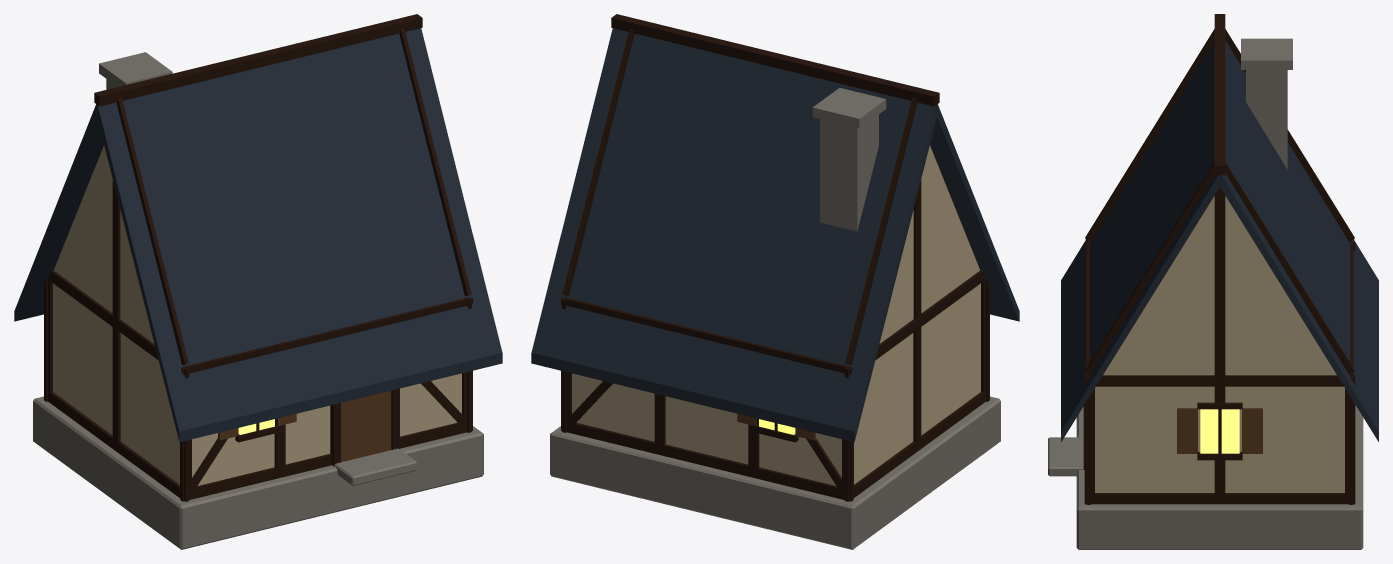
Rendered from casa_a.fbx.
The picture shows the model from 3 angles, left to right: view 1: azimuth 30°, elevation 25°; view 2: azimuth 150°, elevation 25°; view 3: azimuth 270°, elevation 25°; orthographic projection. The views are drawn at different scales.
Visible parts, largest first — view 1: casa_a; view 2: casa_a; view 3: casa_a.
Part boxes in pixels (left/top/right/bottom): casa_a: left=14, top=14, right=502, bottom=549; casa_a: left=531, top=14, right=1019, bottom=549; casa_a: left=1048, top=14, right=1378, bottom=549.
Size of the model in its own units: 6.9 by 8.25 by 6.35.
